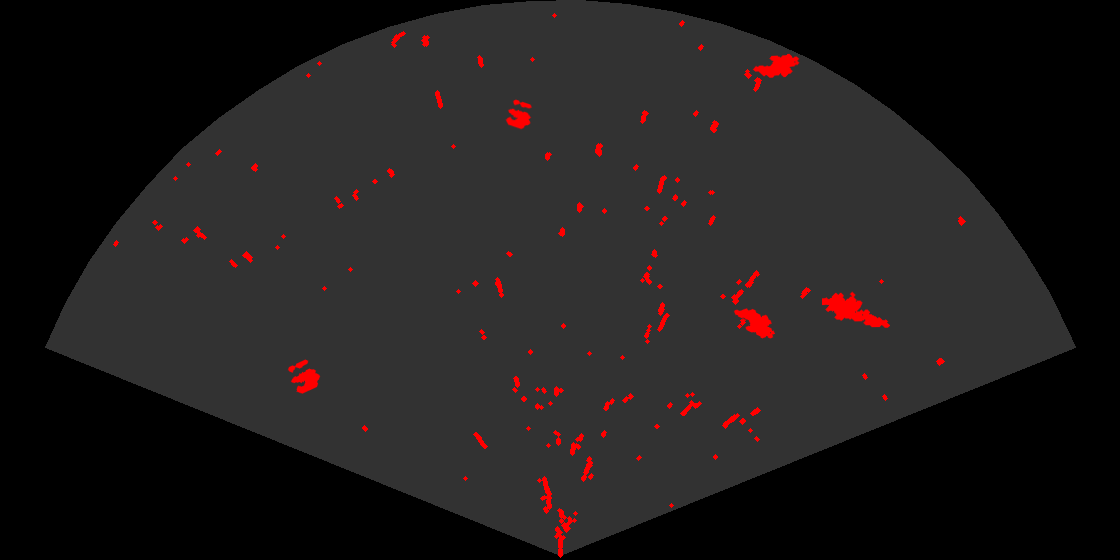AUV: (732, 307, 777, 340), (751, 52, 801, 79)
ball: (286, 358, 322, 395), (504, 98, 534, 131)
frogman: (822, 290, 890, 329)
